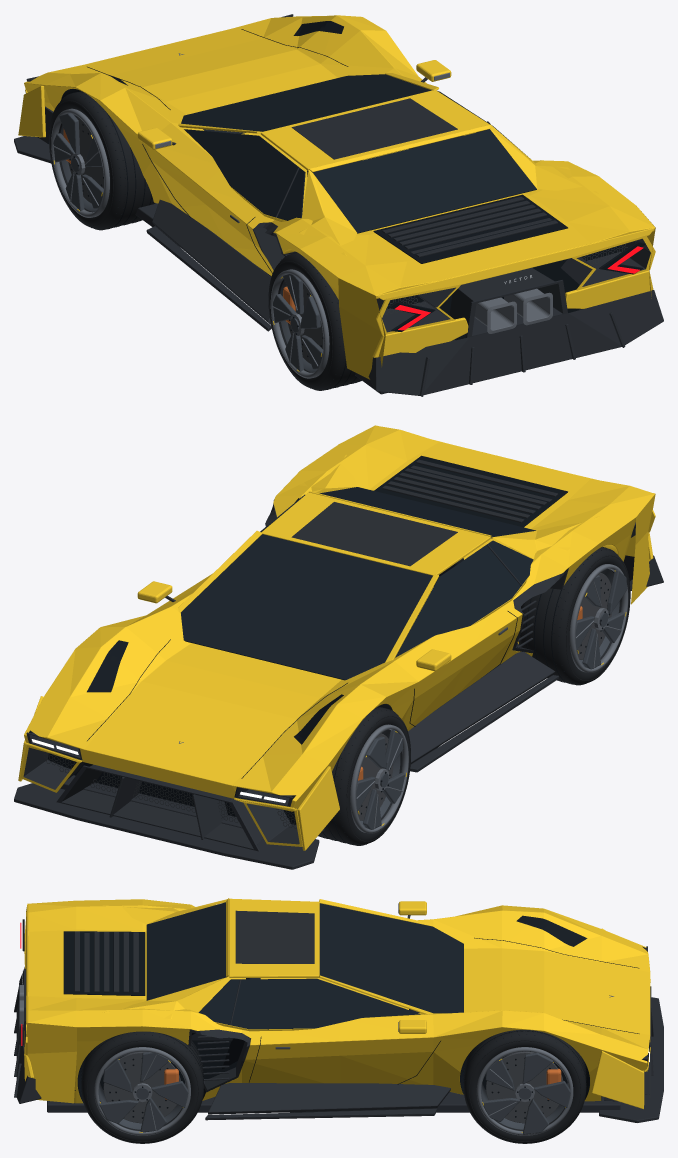
Rendered from Vector_V05.glb.
The picture shows the model from 3 angles, top to bottom: view 1: azimuth 30°, elevation 25°; view 2: azimuth 150°, elevation 25°; view 3: azimuth 270°, elevation 25°; orthographic projection. The views are drawn at different scales.
Parts seen in each view (by area): view 1: V05 primary body.001, Rear engine glazing.001, Integrated carbon diffuser shell.001, V05 windscreen.001, Side glazing.002, Inset roof carbon.001, Front tyre.002, Sculpted carbon rocker.002, V05 painted roof.001, Engine hatch recessed tray.001, Rear tyre.002, Rear quarter wrap.002 (+28 smaller); view 2: V05 primary body.001, V05 windscreen.001, Side glazing.002, Inset roof carbon.001, Sculpted carbon rocker.002, Rear tyre.002, Swept carbon front splitter.001, Central wedge mouth deep duct walls.001, V05 painted roof.001, Front tyre.002, Engine hatch recessed tray.001, Rear engine glazing.001 (+26 smaller); view 3: V05 primary body.001, V05 windscreen.001, Side glazing.003, Sculpted carbon rocker.003, Rear engine glazing.001, Front tyre.003, Rear tyre.003, Inset roof carbon.001, Rear quarter wrap.003, Engine hatch recessed tray.001, V05 painted roof.001, Swept carbon front splitter.001 (+32 smaller).
Boxes of the visible parts, x1,y1,x2,y2 form: V05 primary body.001: [24, 15, 654, 340]; Rear engine glazing.001: [313, 129, 536, 233]; Integrated carbon diffuser shell.001: [368, 290, 663, 395]; V05 windscreen.001: [181, 74, 431, 131]; Side glazing.002: [184, 129, 305, 220]; Inset roof carbon.001: [291, 98, 457, 159]; Front tyre.002: [49, 91, 154, 230]; Sculpted carbon rocker.002: [152, 199, 271, 324]; V05 painted roof.001: [261, 90, 489, 170]; Engine hatch recessed tray.001: [373, 194, 567, 263]; Rear tyre.002: [269, 252, 361, 390]; Rear quarter wrap.002: [338, 278, 385, 379]; V05 primary body.001: [24, 425, 654, 811]; V05 windscreen.001: [181, 534, 432, 680]; Side glazing.002: [395, 540, 533, 657]; Inset roof carbon.001: [291, 502, 457, 566]; Sculpted carbon rocker.002: [408, 651, 555, 763]; Rear tyre.002: [518, 547, 629, 685]; Swept carbon front splitter.001: [14, 783, 319, 869]; Central wedge mouth deep duct walls.001: [62, 764, 262, 848]; V05 painted roof.001: [261, 492, 490, 575]; Front tyre.002: [318, 706, 410, 845]; Engine hatch recessed tray.001: [374, 455, 567, 527]; Rear engine glazing.001: [319, 487, 535, 538]; V05 primary body.001: [28, 899, 650, 1103]; V05 windscreen.001: [319, 903, 463, 1013]; Side glazing.003: [198, 978, 420, 1029]; Sculpted carbon rocker.003: [208, 1083, 450, 1114]; Rear engine glazing.001: [146, 902, 226, 1000]; Front tyre.003: [464, 1030, 586, 1143]; Rear tyre.003: [81, 1031, 203, 1143]; Inset roof carbon.001: [235, 910, 314, 963]; Rear quarter wrap.003: [24, 1023, 76, 1103]; Engine hatch recessed tray.001: [63, 931, 145, 995]; V05 painted roof.001: [229, 898, 319, 977]; Swept carbon front splitter.001: [599, 997, 663, 1122].
Bounding box in the file's own units: 2.46 × 1.27 × 5.1.
